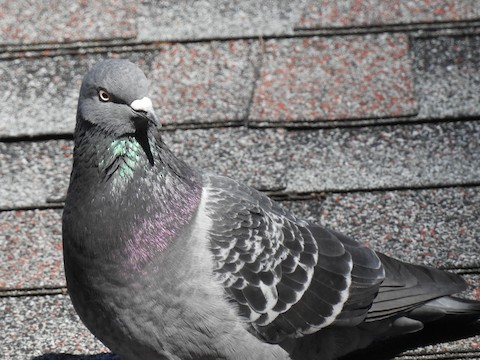pigeon: (60, 54, 474, 353)
